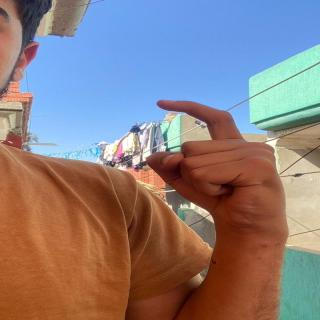RAA: (130, 98, 304, 224)
